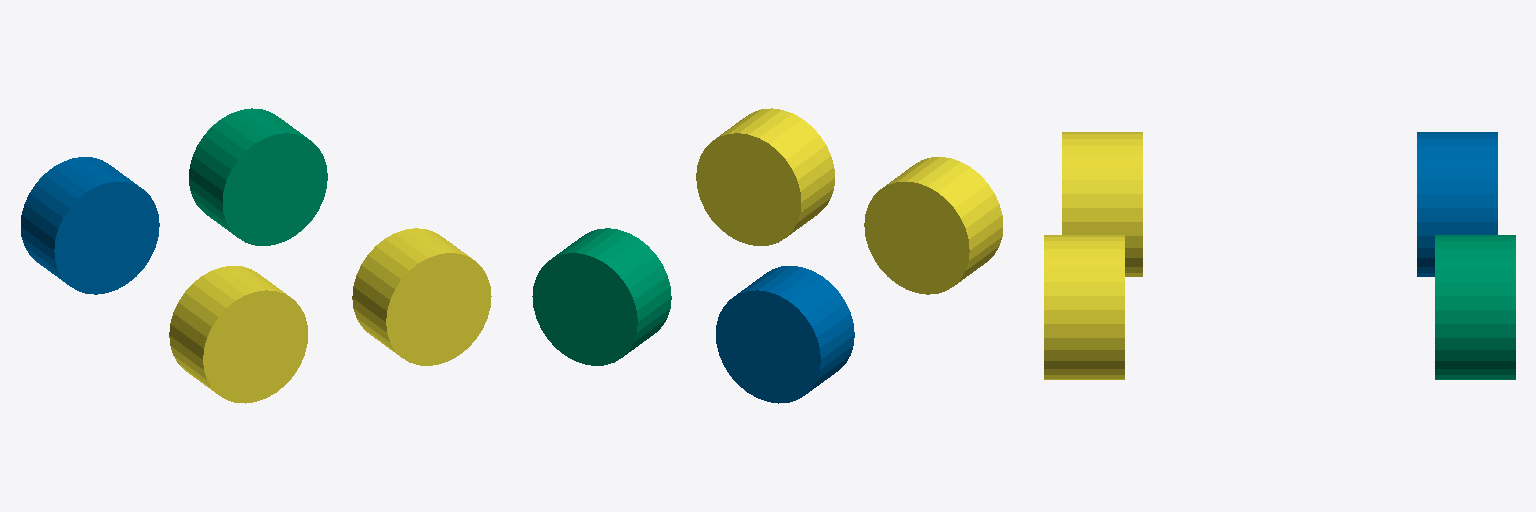
The robot description file, URDF, robot "pupper_v3":
<robot name="pupper_v3" version="1.0">

  <mujoco><compiler meshdir="../meshes/stl/" discardvisual="false" /></mujoco><joint name="leg_front_r_1" type="revolute">
    <limit lower="-1.22000" upper="2.51000" effort="3.00000" velocity="100.00000" />
    <origin rpy="1.57080 0.00000 0.00000" xyz="0.07500 -0.08350 0.00000" />
    <parent link="base_link" />
    <child link="leg_front_r_1" />
    <axis xyz="0.00000 0.00000 1.00000" />
  </joint>
  <joint name="leg_front_r_2" type="revolute">
    <limit lower="-0.42000" upper="3.14000" effort="3.00000" velocity="100.00000" />
    <origin rpy="1.49199 -1.57080 -1.49198" xyz="0.00000 0.00000 0.00000" />
    <parent link="leg_front_r_1" />
    <child link="leg_front_r_2" />
    <axis xyz="0.00000 0.00000 1.00000" />
  </joint>
  <joint name="leg_front_r_wheel_joint" type="continuous">
    <origin rpy="-0.00000 1.57080 0.00000" xyz="0.03750 -0.04940 0.06850" />
    <parent link="leg_front_r_2" />
    <child link="leg_front_r_wheel"/>
    <axis xyz="0.00000 0.00000 1.00000" />
  </joint>

  <joint name="leg_front_l_1" type="revolute">
    <limit lower="-2.51000" upper="1.22000" effort="3.00000" velocity="100.00000" />
    <origin rpy="-1.57080 0.00000 0.00000" xyz="0.07500 0.08350 0.00000" />
    <parent link="base_link" />
    <child link="leg_front_l_1" />
    <axis xyz="0.00000 0.00000 1.00000" />
  </joint>
  <joint name="leg_front_l_2" type="revolute">
    <limit lower="-3.14000" upper="0.42000" effort="3.00000" velocity="100.00000" />
    <origin rpy="1.57080 1.57080 -1.57080" xyz="0.00000 0.00000 0.00000" />
    <parent link="leg_front_l_1" />
    <child link="leg_front_l_2" />
    <axis xyz="0.00000 0.00000 1.00000" />
  </joint>


  <joint name="leg_back_r_1" type="revolute">
    <limit lower="-1.22000" upper="2.51000" effort="3.00000" velocity="100.00000" />
    <origin rpy="1.57080 0.00000 0.00000" xyz="-0.07500 -0.07250 0.00000" />
    <parent link="base_link" />
    <child link="leg_back_r_1" />
    <axis xyz="0.00000 0.00000 1.00000" />
  </joint>
  <joint name="leg_back_r_2" type="revolute">
    <limit lower="-0.42000" upper="3.14000" effort="3.00000" velocity="100.00000" />
    <origin rpy="1.49199 -1.57080 -1.49198" xyz="0.00000 0.00000 0.00000" />
    <parent link="leg_back_r_1" />
    <child link="leg_back_r_2" />
    <axis xyz="0.00000 0.00000 1.00000" />
  </joint>

  <joint name="leg_back_l_1" type="revolute">
    <limit lower="-2.51000" upper="1.22000" effort="3.00000" velocity="100.00000" />
    <origin rpy="-1.57080 0.00000 0.00000" xyz="-0.07500 0.07250 0.00000" />
    <parent link="base_link" />
    <child link="leg_back_l_1" />
    <axis xyz="0.00000 0.00000 1.00000" />
  </joint>
  <joint name="leg_back_l_2" type="revolute">
    <limit lower="-3.14000" upper="0.42000" effort="3.00000" velocity="100.00000" />
    <origin rpy="1.57080 1.57080 -1.57080" xyz="0.00000 0.00000 0.00000" />
    <parent link="leg_back_l_1" />
    <child link="leg_back_l_2" />
    <axis xyz="0.00000 0.00000 1.00000" />
  </joint>


  <link name="base_link">
    <collision name="body_collision">
      <origin rpy="-1.57080 -0.00000 1.57080" xyz="0.02146 -0.00000 0.03345" />
      <geometry>
        <box size="0.009014 0.012758 0.025943" />
      </geometry>
    </collision>
    <inertial>
      <inertia ixx="0.00240" ixy="0.000000" ixz="-0.0005" iyy="0.00850" iyz="0.00000" izz="0.00850" />
      <origin rpy="0.00000 0.00000 0.00000" xyz="0.02500 0.00000 0.01500" />
      <mass value="1.506" />
    </inertial>
    <visual name="body">
      <origin rpy="-1.57080 -0.00000 1.57080" xyz="0.00000 0.00000 0.00000" />
      <geometry>
        <mesh filename="package://pupper_v3_description/description/meshes/stl/BodyV4v70_001.stl" scale="1.00000 1.00000 1.00000" />
      </geometry>
    </visual>
  </link>
  <link name="leg_front_r_1">
    <inertial>
      <inertia ixx="0.000074" ixy="0.0" ixz="0.0" iyy="0.000058" iyz="0.0" izz="0.000048" />
      <origin rpy="0.00000 0.00000 0.00000" xyz="0.0 0.0 0.0" />
      <mass value="0.18000" />
    </inertial>
    <visual name="Leg Assembly For Flanged v26.001">
      <origin rpy="0.00000 0.00000 3.14159" xyz="0.00000 0.00000 -0.02800" />
      <geometry>
        <mesh filename="package://pupper_v3_description/description/meshes/stl/LegAssemblyForFlangedv26_001.stl" scale="1.00000 1.00000 1.00000" />
      </geometry>
    </visual>
  </link>
  <link name="leg_front_r_2">
    <inertial>
      <inertia ixx="0.000113" ixy="0.0" ixz="0.0" iyy="0.000067" iyz="0.000025" izz="0.000077" />
      <origin rpy="0.00000 0.00000 0.00000" xyz="0.0 -0.03340 0.05419" />
      <mass value="0.18600" />
    </inertial>
    <visual name="Leg Assembly For Flanged v26.002">
      <origin rpy="0.26213 -1.57080 2.87947" xyz="-0.02800 -0.00000 -0.00000" />
      <geometry>
        <mesh filename="package://pupper_v3_description/description/meshes/stl/LegAssemblyForFlangedv26_002.stl" scale="1.00000 1.00000 1.00000" />
      </geometry>
    </visual>
  </link>
  <link name="leg_front_r_wheel">
    <collision>
      <geometry>
        <cylinder radius="0.045" length="0.05"/>
      </geometry>
    </collision>
    <inertial>
      <mass value="0.1"/>
      <inertia ixx="0.0001" ixy="0" ixz="0" iyy="0.0001" iyz="0" izz="0.0001"/>
    </inertial>
    <visual>
      <geometry>
        <cylinder radius="0.045" length="0.05"/>
      </geometry>
    </visual>
  </link>
  <link name="leg_front_l_1">
    <inertial>
      <inertia ixx="0.000074" ixy="0.0" ixz="0.0" iyy="0.000058" iyz="0.0" izz="0.000048" />
      <origin rpy="0.00000 0.00000 0.00000" xyz="0.0 0.0 0.0" />
      <mass value="0.18000" />
    </inertial>
    <visual name="Leg Assembly For Flanged v26.009">
      <origin rpy="0.00000 0.00000 3.14159" xyz="0.00000 0.00000 -0.02800" />
      <geometry>
        <mesh filename="package://pupper_v3_description/description/meshes/stl/LegAssemblyForFlangedv26_010.stl" scale="1.00000 -1.00000 1.00000" />
      </geometry>
    </visual>
  </link>
  <link name="leg_front_l_2">
    <inertial>
      <inertia ixx="0.000113" ixy="0.0" ixz="0.0" iyy="0.000067" iyz="0.000025" izz="0.000077" />
      <origin rpy="0.00000 0.00000 0.00000" xyz="0 -0.03340 0.05419" />
      <mass value="0.18600" />
    </inertial>
    <visual name="Leg Assembly For Flanged v26.010">
      <origin rpy="0.26213 -1.57080 2.87947" xyz="+0.02800 -0.00000 -0.00000" />
      <geometry>
        <mesh filename="package://pupper_v3_description/description/meshes/stl/LegAssemblyForFlangedv26_011.stl" scale="1.00000 1.00000 -1.00000" />
      </geometry>
    </visual>
  </link>

  <link name="leg_back_r_1">
    <inertial>
      <inertia ixx="0.000074" ixy="0.0" ixz="0.0" iyy="0.000058" iyz="0.0" izz="0.000048" />
      <origin rpy="0.00000 0.00000 0.00000" xyz="0.0 0.0 0.0" />
      <mass value="0.18000" />
    </inertial>
    <visual name="Leg Assembly For Flanged v26.004">
      <origin rpy="0.00000 0.00000 3.14159" xyz="0.00000 0.00000 -0.02800" />
      <geometry>
        <mesh filename="package://pupper_v3_description/description/meshes/stl/LegAssemblyForFlangedv26_005.stl" scale="1.00000 1.00000 1.00000" />
      </geometry>
    </visual>
  </link>
  <link name="leg_back_r_2">
    <inertial>
      <inertia ixx="0.000113" ixy="0.0" ixz="0.0" iyy="0.000067" iyz="0.000025" izz="0.000077" />
      <origin rpy="0.00000 0.00000 0.00000" xyz="0.0 -0.03340 0.05419" />
      <mass value="0.18600" />
    </inertial>
    <visual name="Leg Assembly For Flanged v26.005">
      <origin rpy="0.26213 -1.57080 2.87947" xyz="-0.02800 -0.00000 -0.00000" />
      <geometry>
        <mesh filename="package://pupper_v3_description/description/meshes/stl/LegAssemblyForFlangedv26_006.stl" scale="1.00000 1.00000 1.00000" />
      </geometry>
    </visual>
  </link>

  <link name="leg_back_l_1">
    <inertial>
      <inertia ixx="0.000074" ixy="0.0" ixz="0.0" iyy="0.000058" iyz="0.0" izz="0.000048" />
      <origin rpy="0.00000 0.00000 0.00000" xyz="0.0 0.0 0.0" />
      <mass value="0.18000" />
    </inertial>
    <visual name="Leg Assembly For Flanged v26.012">
      <origin rpy="0.00000 0.00000 3.14159" xyz="0.00000 0.00000 -0.02800" />
      <geometry>
        <mesh filename="package://pupper_v3_description/description/meshes/stl/LegAssemblyForFlangedv26_013.stl" scale="1.00000 -1.00000 1.00000" />
      </geometry>
    </visual>
  </link>
  <link name="leg_back_l_2">
    <inertial>
      <inertia ixx="0.000113" ixy="0.0" ixz="0.0" iyy="0.000067" iyz="0.000025" izz="0.000077" />
      <origin rpy="0.00000 0.00000 0.00000" xyz="0.0 -0.03340 0.05419" />
      <mass value="0.18600" />
    </inertial>
    <visual name="Leg Assembly For Flanged v26.013">
      <origin rpy="0.26213 -1.57080 2.87947" xyz=" +0.02800 -0.00000 -0.00000" />
      <geometry>
        <mesh filename="package://pupper_v3_description/description/meshes/stl/LegAssemblyForFlangedv26_014.stl" scale="1.00000 1.00000 -1.00000" />
      </geometry>
    </visual>
  </link>
  

  <link name="leg_front_l_wheel">
    <visual>
      <geometry>
        <cylinder radius="0.045" length="0.05"/>
      </geometry>
    </visual>
    <collision>
      <geometry>
        <cylinder radius="0.045" length="0.05"/>
      </geometry>
    </collision>
    <inertial>
      <mass value="0.1"/>
      <inertia ixx="0.0001" ixy="0" ixz="0" iyy="0.0001" iyz="0" izz="0.0001"/>
    </inertial>
  </link>
  <joint name="leg_front_l_wheel_joint" type="continuous">
    <parent link="leg_front_l_2"/>
    <child link="leg_front_l_wheel"/>
    <origin rpy="-0.00000 1.57080 0.00000" xyz="-0.03750 -0.04940 0.06850"/>
    <axis xyz="0 0 1"/>
  </joint>

  <link name="leg_back_r_wheel">
    <visual>
      <geometry>
        <cylinder radius="0.045" length="0.05"/>
      </geometry>
    </visual>
    <collision>
      <geometry>
        <cylinder radius="0.045" length="0.05"/>
      </geometry>
    </collision>
    <inertial>
      <mass value="0.1"/>
      <inertia ixx="0.0001" ixy="0" ixz="0" iyy="0.0001" iyz="0" izz="0.0001"/>
    </inertial>
  </link>
  <joint name="leg_back_r_wheel_joint" type="continuous">
    <parent link="leg_back_r_2"/>
    <child link="leg_back_r_wheel"/>
    <origin rpy="-0.00000 1.57080 0.00000" xyz="0.03750 -0.04940 0.06850"/>
    <axis xyz="0 0 1"/>
  </joint>

  <link name="leg_back_l_wheel">
    <visual>
      <geometry>
        <cylinder radius="0.045" length="0.05"/>
      </geometry>
    </visual>
    <collision>
      <geometry>
        <cylinder radius="0.045" length="0.05"/>
      </geometry>
    </collision>
    <inertial>
      <mass value="0.1"/>
      <inertia ixx="0.0001" ixy="0" ixz="0" iyy="0.0001" iyz="0" izz="0.0001"/>
    </inertial>
  </link>
  <joint name="leg_back_l_wheel_joint" type="continuous">
    <parent link="leg_back_l_2"/>
    <child link="leg_back_l_wheel"/>
    <origin rpy="-0.00000 1.57080 0.00000" xyz="-0.03750 -0.04940 0.06850"/>
    <axis xyz="0 0 1"/>
  </joint>

<joint name="world_to_body" type="floating"><parent link="world" /><child link="base_link" /></joint><link name="world" /></robot>

--- Facts derived from the render (not from the file) ---
3 views of the same robot in one strip: view 1: azimuth 30°, elevation 25°; view 2: azimuth 150°, elevation 25°; view 3: azimuth 270°, elevation 25° (orthographic).
Robot: pupper_v3 — 14 links, 13 joints (8 revolute, 4 continuous, 1 floating); root link world; default pose: every joint at zero.
Links seen in each view (by area): view 1: leg_back_l_wheel, leg_front_r_wheel, leg_back_r_wheel, leg_front_l_wheel; view 2: leg_back_r_wheel, leg_front_l_wheel, leg_back_l_wheel, leg_front_r_wheel; view 3: leg_front_r_wheel, leg_front_l_wheel, leg_back_r_wheel, leg_back_l_wheel.
Link boxes in pixels (bbox=[...]): leg_back_l_wheel: bbox=[21, 157, 159, 294]; leg_front_r_wheel: bbox=[352, 228, 491, 365]; leg_back_r_wheel: bbox=[169, 266, 307, 403]; leg_front_l_wheel: bbox=[189, 108, 327, 245]; leg_back_r_wheel: bbox=[864, 157, 1002, 294]; leg_front_l_wheel: bbox=[532, 228, 671, 365]; leg_back_l_wheel: bbox=[716, 266, 854, 403]; leg_front_r_wheel: bbox=[696, 108, 834, 245]; leg_front_r_wheel: bbox=[1044, 235, 1124, 379]; leg_front_l_wheel: bbox=[1435, 235, 1515, 379]; leg_back_r_wheel: bbox=[1062, 132, 1142, 276]; leg_back_l_wheel: bbox=[1417, 132, 1497, 276].
Bounding box of the posed robot: 0.24 × 0.292 × 0.09 m (x, y, z).
0 mesh visuals loaded from 9 distinct referenced files (none loaded); not drawn: 9 (reference not matched to a file when rendering).